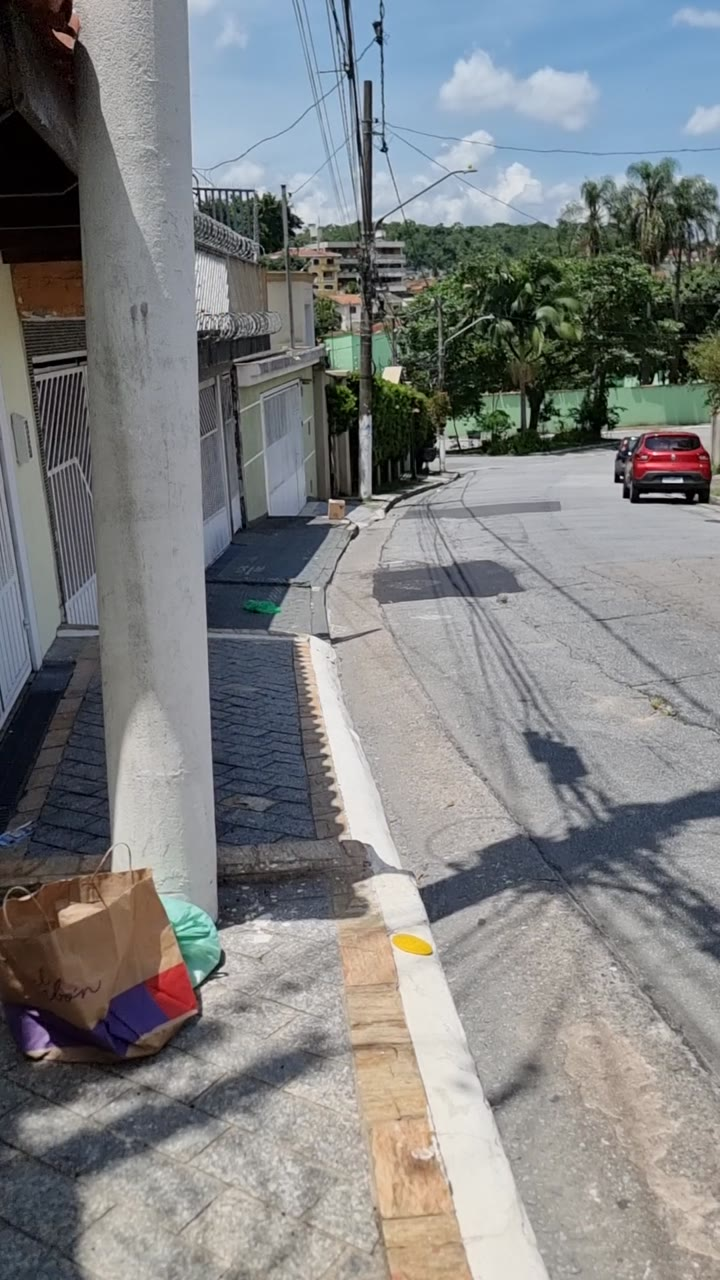obstaculo: (58, 0, 216, 806), (0, 849, 200, 1061), (161, 895, 222, 988)
